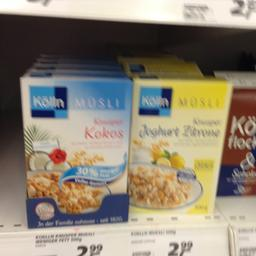cereal: (18, 76, 130, 212), (133, 72, 232, 211)
